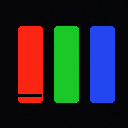3 line_h: (15, 94, 41, 96)
